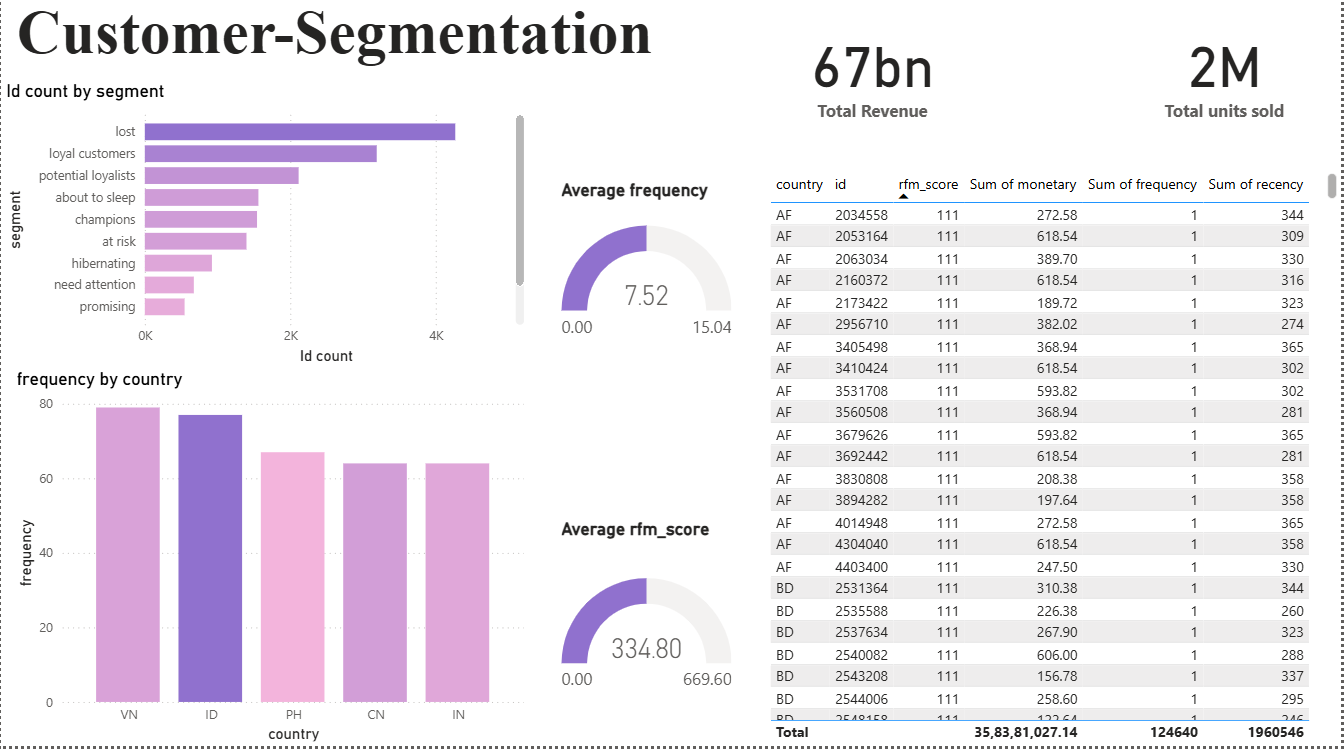

Layout of this report page (visuals, bound fields, positions):
{"tool":"powerbi","page":{"name":"Page 1","canvas":[1280,720],"ordinal":0},"visuals":[{"type":"textbox","box":[9.4,0,631.2,85],"z":0},{"type":"card","fields":{"Values":["Sum(sales_asia.revenue)"]},"box":[714.1,0,234.2,149.6],"z":1000},{"type":"card","fields":{"Values":["Sum(sales_asia.units)"]},"box":[1055.6,0,224.5,149.6],"z":2000},{"type":"columnChart","fields":{"Category":["sales_asia.country"],"Y":["Count(RFM_Asia.frequency)"]},"box":[9.8,359.5,494.5,361.1],"z":3000},{"type":"gauge","fields":{"Y":["Avg(RFM_Asia.rfm_score)"]},"box":[530.3,502.6,172.4,206.6],"z":4000},{"type":"gauge","fields":{"Y":["Avg(RFM_Asia.frequency)"]},"box":[530.3,178.9,172.4,180.5],"z":5000},{"type":"barChart","fields":{"Category":["RFM_Asia.segment"],"Y":["CountNonNull(RFM_Asia.id)"]},"box":[0,84.6,504.2,274.9],"z":6000},{"type":"tableEx","fields":{"Values":["RFM_Asia.country","RFM_Asia.id","RFM_Asia.rfm_score","Sum(RFM_Asia.monetary)","Sum(RFM_Asia.frequency)","Sum(RFM_Asia.recency)"]},"box":[728.7,167.5,551.4,553],"z":7000}]}

Visuals, with their boxes in screenshot pixels (x1, y1, x2, y2), scaled from the page's 1280x720 canvas onto the 1344x754 screenshot:
textbox: <bbox>10, 0, 673, 89</bbox>
card - Sum(sales_asia.revenue): <bbox>750, 0, 996, 157</bbox>
card - Sum(sales_asia.units): <bbox>1108, 0, 1343, 157</bbox>
columnChart - sales_asia.country x Count(RFM_Asia.frequency): <bbox>10, 376, 530, 753</bbox>
gauge - Avg(RFM_Asia.rfm_score): <bbox>557, 526, 738, 743</bbox>
gauge - Avg(RFM_Asia.frequency): <bbox>557, 187, 738, 376</bbox>
barChart - RFM_Asia.segment x CountNonNull(RFM_Asia.id): <bbox>0, 89, 529, 376</bbox>
tableEx - RFM_Asia.country x RFM_Asia.id: <bbox>765, 175, 1343, 753</bbox>
